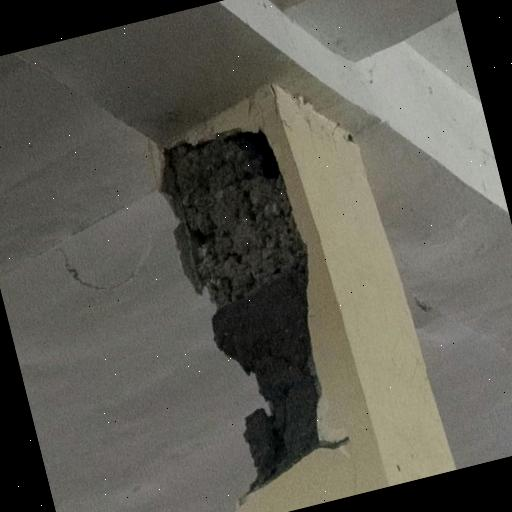spalling: (169, 139, 320, 494)
